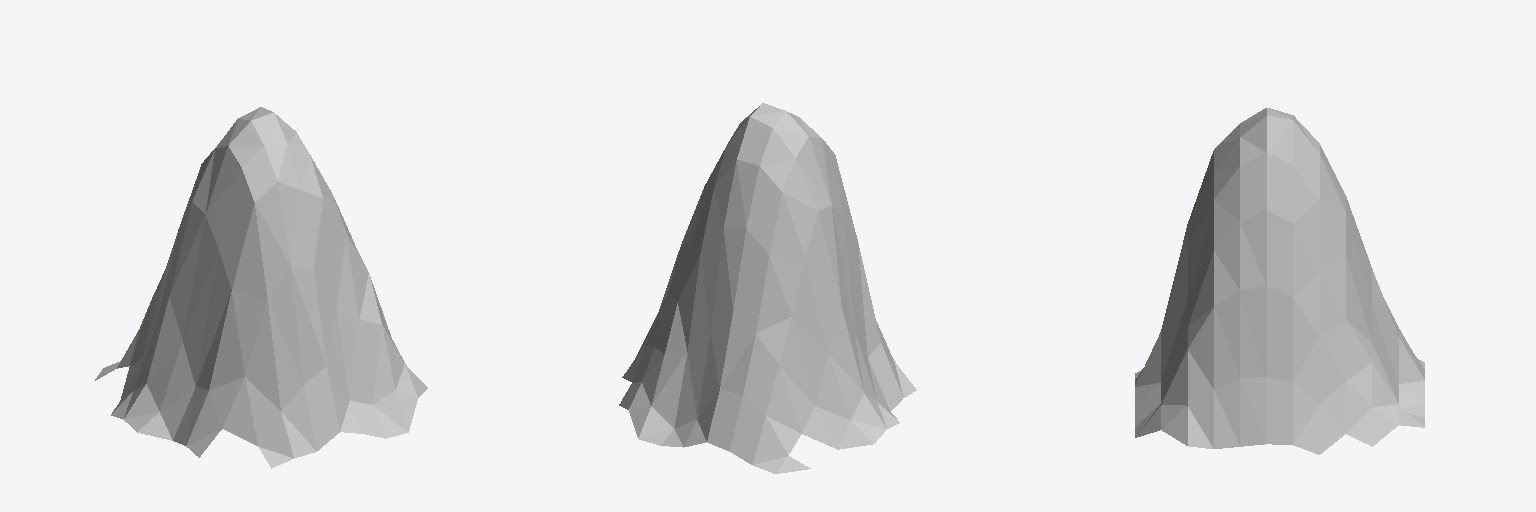
Rendered from tree_35.obj.
3 views of the same model, side by side, from view 1: azimuth 30°, elevation 25°; view 2: azimuth 150°, elevation 25°; view 3: azimuth 270°, elevation 25° (orthographic).
Parts seen in each view (by area): view 1: tree_35.001; view 2: tree_35.001; view 3: tree_35.001.
Boxes of the visible parts, x1=… form: tree_35.001: x1=95, y1=107, x2=427, y2=468; tree_35.001: x1=619, y1=103, x2=916, y2=473; tree_35.001: x1=1135, y1=108, x2=1424, y2=454.
Size of the model in its own units: 11 by 12.17 by 11.